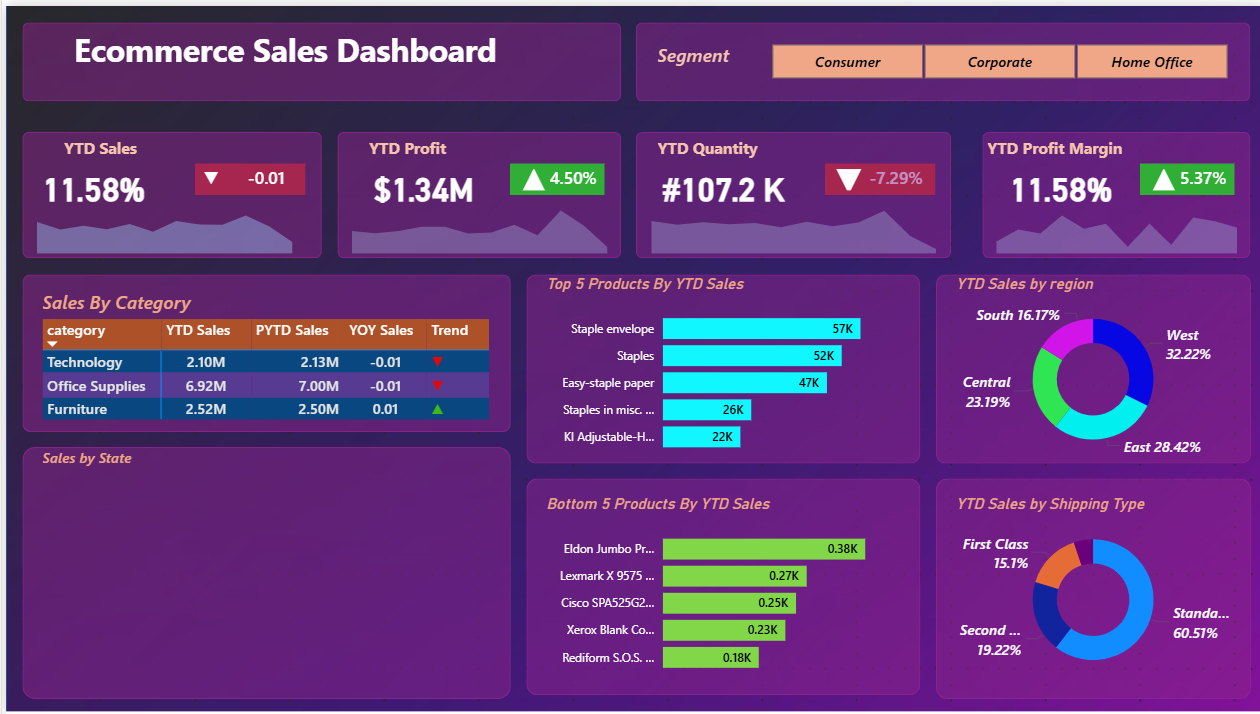

The dashboard page shown, as its layout file describes it:
{"tool":"powerbi","page":{"name":"Ecommerce_Data","canvas":[1280,720],"ordinal":0},"visuals":[{"type":"shape","box":[992,128,272,128],"z":0},{"type":"shape","box":[336,128,288,128],"z":1000},{"type":"shape","box":[512,160,96,32],"z":2000},{"type":"card","fields":{"Values":["ecommerce_data.YOY Profit"]},"box":[544,160,64,32],"z":3000},{"type":"shape","box":[192,160,112,32],"z":4000},{"type":"shape","box":[16,16,608,80],"z":5000},{"type":"textbox","box":[64,16,464,64],"z":6000},{"type":"shape","box":[16,128,304,128],"z":7000},{"type":"card","fields":{"Values":["ecommerce_data.YTD Sales"]},"box":[16,160,144,48],"z":8000},{"type":"areaChart","fields":{"Category":["Calender.Month"],"Y":["Sum(ecommerce_data.sales_per_order)"]},"box":[16,192,288,64],"z":9000},{"type":"card","fields":{"Values":["ecommerce_data.YOY Sales"]},"box":[224,160,80,32],"z":10000},{"type":"card","fields":{"Values":["ecommerce_data.Sales_Icon"]},"box":[192,160,32,32],"z":11000},{"type":"textbox","box":[32,128,128,32],"z":12000},{"type":"card","fields":{"Values":["ecommerce_data.YTD Profit"]},"box":[352,160,144,48],"z":13000},{"type":"areaChart","fields":{"Category":["Calender.Month"],"Y":["Sum(ecommerce_data.profit_per_order)"]},"box":[336,192,288,64],"z":14000},{"type":"card","fields":{"Values":["ecommerce_data.Profit_Icon"]},"box":[512,176,32,16],"z":15000},{"type":"textbox","box":[352,128,112,32],"z":16000},{"type":"shape","box":[832,160,112,32],"z":17000},{"type":"card","fields":{"Values":["ecommerce_data.YOY Quantity"]},"box":[864,160,80,32],"z":18000},{"type":"shape","box":[640,128,320,128],"z":19000},{"type":"card","fields":{"Values":["ecommerce_data.Quantity_Icon"]},"box":[832,160,48,32],"z":20000},{"type":"card","fields":{"Values":["ecommerce_data.Profit_Icon"]},"box":[522,186,32,16],"z":21000},{"type":"card","fields":{"Values":["ecommerce_data.Profit_Icon"]},"box":[816,464,96,16],"z":22000},{"type":"areaChart","fields":{"Category":["Calender.Month"],"Y":["Sum(ecommerce_data.order_quantity)"]},"box":[640,192,320,64],"z":23000},{"type":"textbox","box":[656,128,112,32],"z":24000},{"type":"card","fields":{"Values":["ecommerce_data.Profit_Icon"]},"box":[832,480,48,16],"z":25000},{"type":"card","fields":{"Values":["ecommerce_data.YTD concatenated quantity"]},"box":[656,160,144,48],"z":26000},{"type":"card","fields":{"Values":["ecommerce_data.Profit_Icon"]},"box":[512,160,48,32],"z":27000},{"type":"shape","box":[1152,160,96,32],"z":28000},{"type":"card","fields":{"Values":["ecommerce_data.YOY Profit Margin"]},"box":[1184,160,64,32],"z":29000},{"type":"card","fields":{"Values":["ecommerce_data.Profit Margin Icon"]},"box":[1152,160,48,32],"z":30000},{"type":"areaChart","fields":{"Category":["Calender.Month"],"Y":["ecommerce_data.Profit Margin"]},"box":[992,192,272,64],"z":31000},{"type":"textbox","box":[992,128,160,32],"z":32000},{"type":"shape","box":[16,272,496,160],"z":33000},{"type":"card","fields":{"Values":["ecommerce_data.YTD_Profit_Margin"]},"box":[1008,160,128,48],"z":34000},{"type":"pivotTable","title":"Sales By Category","fields":{"Rows":["ecommerce_data.category_name"],"Values":["ecommerce_data.YTD Sales","ecommerce_data.PYTD Sales","ecommerce_data.YOY Sales","ecommerce_data.Sales_Icon"]},"box":[32,288,464,144],"z":35000},{"type":"shape","box":[16,448,496,256],"z":36000},{"type":"map","title":"Sales by State","fields":{"Y":["us_state_long_lat_codes.latitude"],"X":["us_state_long_lat_codes.longitude"],"Size":["ecommerce_data.YTD Sales"],"Series":["ecommerce_data.customer_region"]},"box":[32,448,464,256],"z":37000},{"type":"shape","box":[528,272,400,192],"z":38000},{"type":"shape","box":[528,480,400,220],"z":39000},{"type":"barChart","title":"Top 5 Products By YTD Sales","fields":{"Category":["ecommerce_data.product_name"],"Y":["ecommerce_data.YTD Sales"]},"box":[544,272,368,192],"z":40000},{"type":"barChart","title":"Bottom 5 Products By YTD Sales","fields":{"Category":["ecommerce_data.product_name"],"Y":["ecommerce_data.YTD Sales"]},"box":[544,496,368,192],"z":41000},{"type":"shape","box":[944,272,320,192],"z":42000},{"type":"shape","box":[944,480,320,224],"z":43000},{"type":"donutChart","title":"YTD Sales by region","fields":{"Category":["ecommerce_data.customer_region"],"Y":["ecommerce_data.YTD Sales"]},"box":[960,272,288,192],"z":44000},{"type":"donutChart","title":"YTD Sales by Shipping Type","fields":{"Y":["ecommerce_data.YTD Sales"],"Category":["ecommerce_data.shipping_type"]},"box":[960,496,288,192],"z":45000},{"type":"shape","box":[640,16,624,80],"z":46000},{"type":"slicer","fields":{"Values":["ecommerce_data.customer_segment"]},"box":[752,32,512,48],"z":47000},{"type":"textbox","box":[656,32,112,48],"z":48000}]}

Visuals, with their boxes in screenshot pixels (x1, y1, x2, y2), scaled from the page's 1280x720 canvas onto the 1260x714 screenshot:
shape: detection(976, 127, 1244, 254)
shape: detection(331, 127, 614, 254)
shape: detection(504, 159, 598, 190)
card - ecommerce_data.YOY Profit: detection(536, 159, 598, 190)
shape: detection(189, 159, 299, 190)
shape: detection(16, 16, 614, 95)
textbox: detection(63, 16, 520, 79)
shape: detection(16, 127, 315, 254)
card - ecommerce_data.YTD Sales: detection(16, 159, 158, 206)
areaChart - Calender.Month x Sum(ecommerce_data.sales_per_order): detection(16, 190, 299, 254)
card - ecommerce_data.YOY Sales: detection(220, 159, 299, 190)
card - ecommerce_data.Sales_Icon: detection(189, 159, 220, 190)
textbox: detection(32, 127, 158, 159)
card - ecommerce_data.YTD Profit: detection(346, 159, 488, 206)
areaChart - Calender.Month x Sum(ecommerce_data.profit_per_order): detection(331, 190, 614, 254)
card - ecommerce_data.Profit_Icon: detection(504, 175, 536, 190)
textbox: detection(346, 127, 457, 159)
shape: detection(819, 159, 929, 190)
card - ecommerce_data.YOY Quantity: detection(850, 159, 929, 190)
shape: detection(630, 127, 945, 254)
card - ecommerce_data.Quantity_Icon: detection(819, 159, 866, 190)
card - ecommerce_data.Profit_Icon: detection(514, 184, 545, 200)
card - ecommerce_data.Profit_Icon: detection(803, 460, 898, 476)
areaChart - Calender.Month x Sum(ecommerce_data.order_quantity): detection(630, 190, 945, 254)
textbox: detection(646, 127, 756, 159)
card - ecommerce_data.Profit_Icon: detection(819, 476, 866, 492)
card - ecommerce_data.YTD concatenated quantity: detection(646, 159, 788, 206)
card - ecommerce_data.Profit_Icon: detection(504, 159, 551, 190)
shape: detection(1134, 159, 1228, 190)
card - ecommerce_data.YOY Profit Margin: detection(1166, 159, 1228, 190)
card - ecommerce_data.Profit Margin Icon: detection(1134, 159, 1181, 190)
areaChart - Calender.Month x ecommerce_data.Profit Margin: detection(976, 190, 1244, 254)
textbox: detection(976, 127, 1134, 159)
shape: detection(16, 270, 504, 428)
card - ecommerce_data.YTD_Profit_Margin: detection(992, 159, 1118, 206)
"Sales By Category" pivotTable: detection(32, 286, 488, 428)
shape: detection(16, 444, 504, 698)
"Sales by State" map: detection(32, 444, 488, 698)
shape: detection(520, 270, 914, 460)
shape: detection(520, 476, 914, 694)
"Top 5 Products By YTD Sales" barChart: detection(536, 270, 898, 460)
"Bottom 5 Products By YTD Sales" barChart: detection(536, 492, 898, 682)
shape: detection(929, 270, 1244, 460)
shape: detection(929, 476, 1244, 698)
"YTD Sales by region" donutChart: detection(945, 270, 1228, 460)
"YTD Sales by Shipping Type" donutChart: detection(945, 492, 1228, 682)
shape: detection(630, 16, 1244, 95)
slicer - ecommerce_data.customer_segment: detection(740, 32, 1244, 79)
textbox: detection(646, 32, 756, 79)
